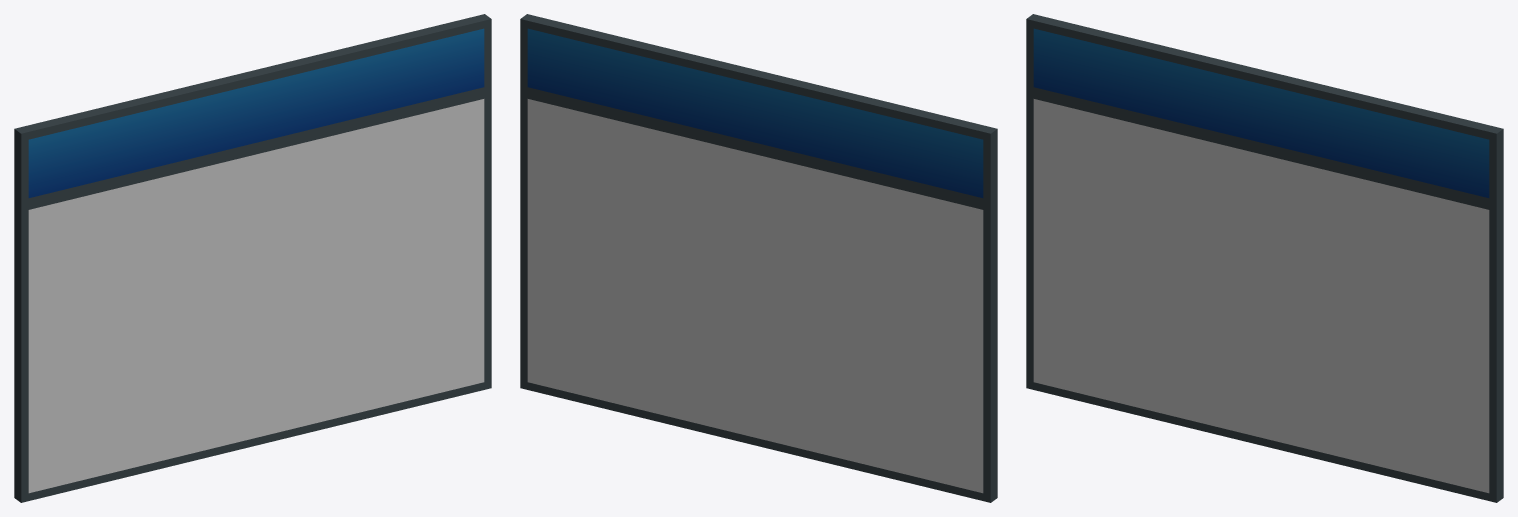
Rendered from CubicleWallV2Light.fbx.
The picture shows the model from 3 angles, left to right: view 1: azimuth 30°, elevation 25°; view 2: azimuth 150°, elevation 25°; view 3: azimuth 330°, elevation 25°; orthographic projection.
Parts seen in each view (by area): view 1: CubicleWallV2Light; view 2: CubicleWallV2Light; view 3: CubicleWallV2Light.
Boxes of the visible parts, x1,y1,x2,y2 form: CubicleWallV2Light: (14, 14, 491, 502); CubicleWallV2Light: (520, 14, 997, 502); CubicleWallV2Light: (1026, 14, 1503, 502).
Bounding box in the file's own units: 200 × 150 × 5.
